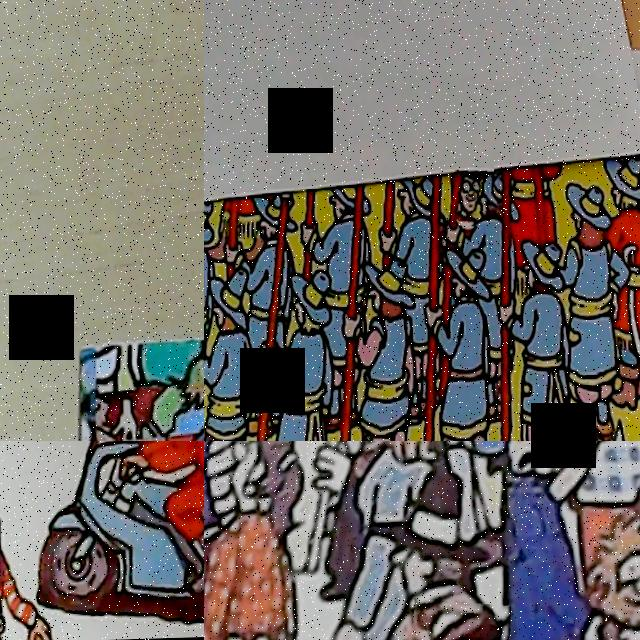waldo: (400, 601, 508, 640), (448, 159, 492, 230)
